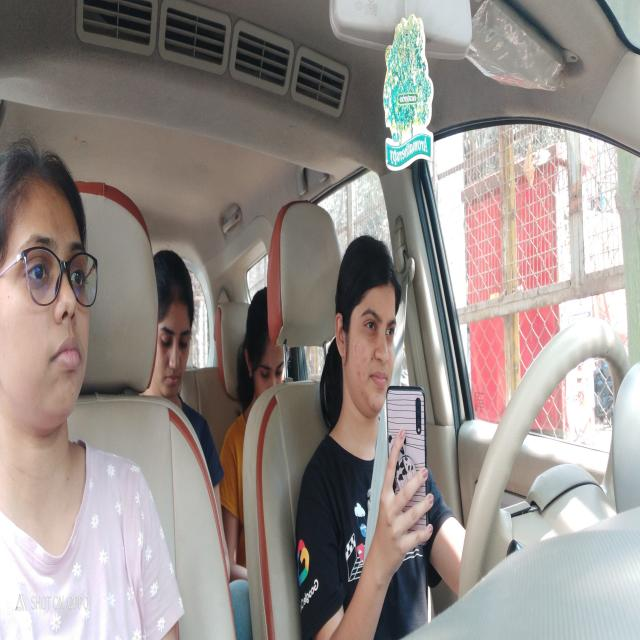mobile: (381, 378, 441, 555)
person: (2, 128, 106, 444), (338, 211, 406, 417), (239, 252, 294, 418), (151, 222, 200, 408)
